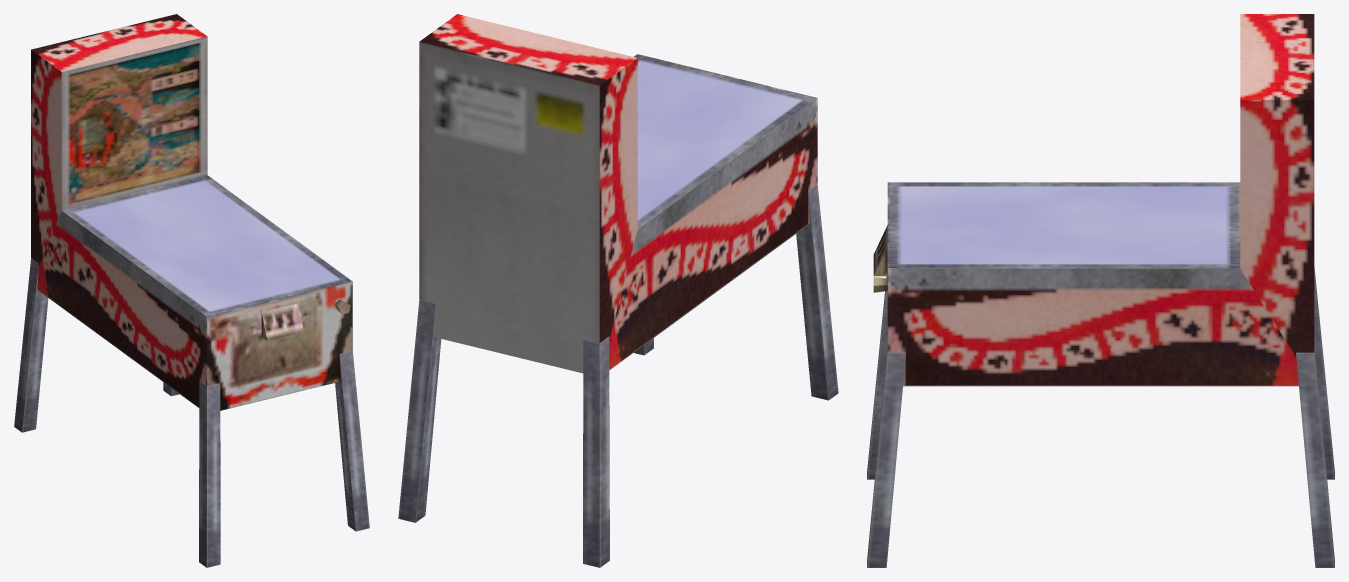
File: PinballTable01.fbx
3 renders of one model, left to right at view 1: azimuth 30°, elevation 25°; view 2: azimuth 150°, elevation 25°; view 3: azimuth 270°, elevation 25°, orthographic. The views are drawn at different scales.
Parts seen in each view (by area): view 1: PinballTable01; view 2: PinballTable01; view 3: PinballTable01.
Boxes of the visible parts, x1,y1,x2,y2 form: PinballTable01: (14, 14, 369, 567); PinballTable01: (398, 14, 838, 567); PinballTable01: (867, 14, 1334, 567).
Size of the model in its own units: 92.25 by 206 by 189.
